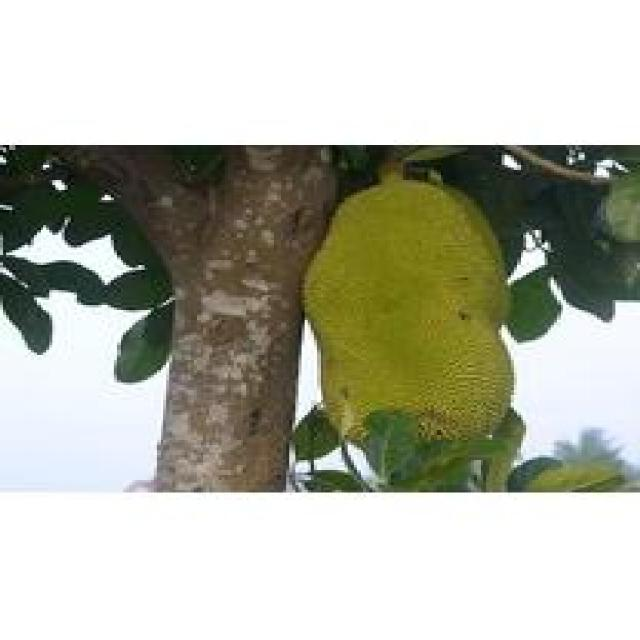Fruit: (286, 162, 529, 462)
